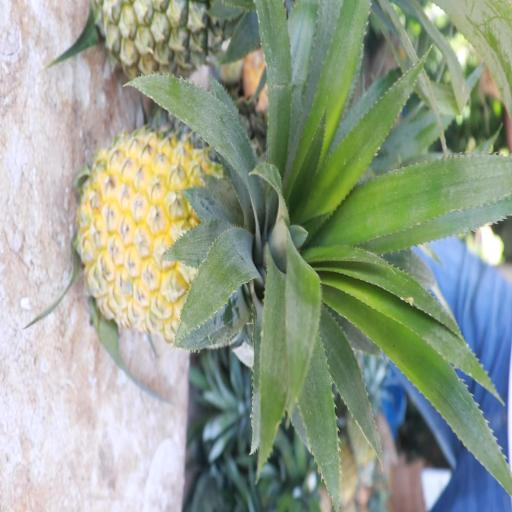------------------------------: (97, 0, 299, 96)
Pineapple - v8 v1: (80, 127, 304, 345)
